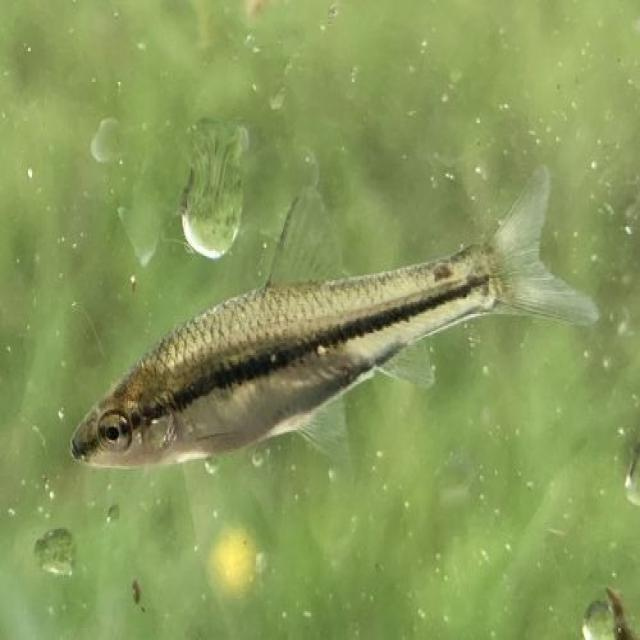Cakil Baligi: (69, 157, 600, 493)
